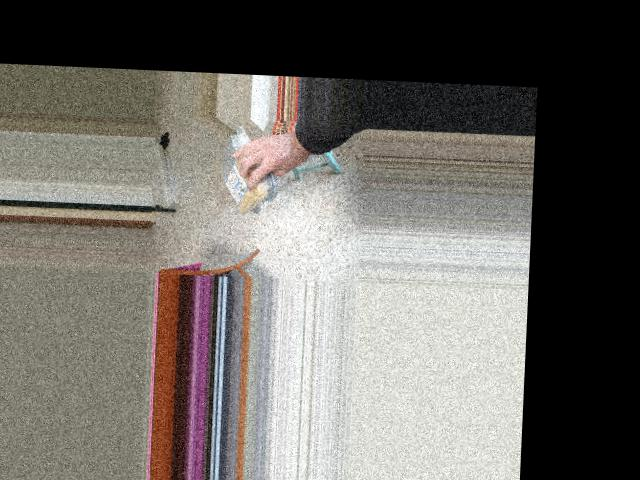cheese: (223, 131, 267, 222)
